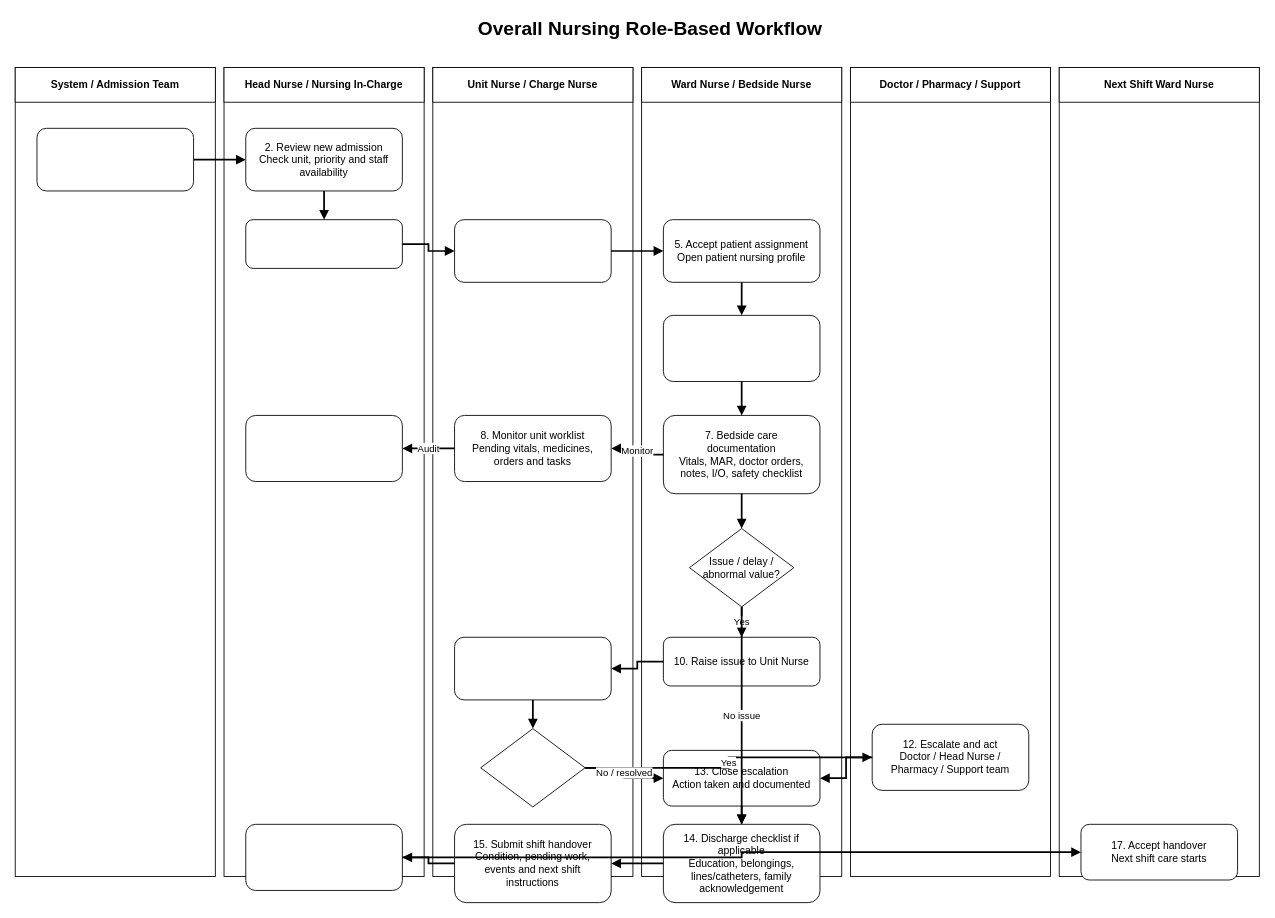
Some shapes in this 1275 by 918 pixel diagram are drawn without their labels. Here are the shapes that lost their labels. From the top down, the centre of each, then its label:
point 115,159: 1. Patient admitted / transferred Bed assigned; appears in nursing queue
point 323,243: 3. Assign patient to Unit Nurse
point 532,250: 4. Assign patient to Ward Nurse Check nurse availability, skill and acuity
point 741,348: 6. Initial nursing assessment Vitals, pain, risk, devices, allergies
point 323,448: 9. Audit and control Critical delays, incidents, quality and reports
point 532,668: 11. First-level review Validate issue and decide next action
point 532,767: Escalation required?
point 323,856: 16. Verify handover Check completion and critical pending items
